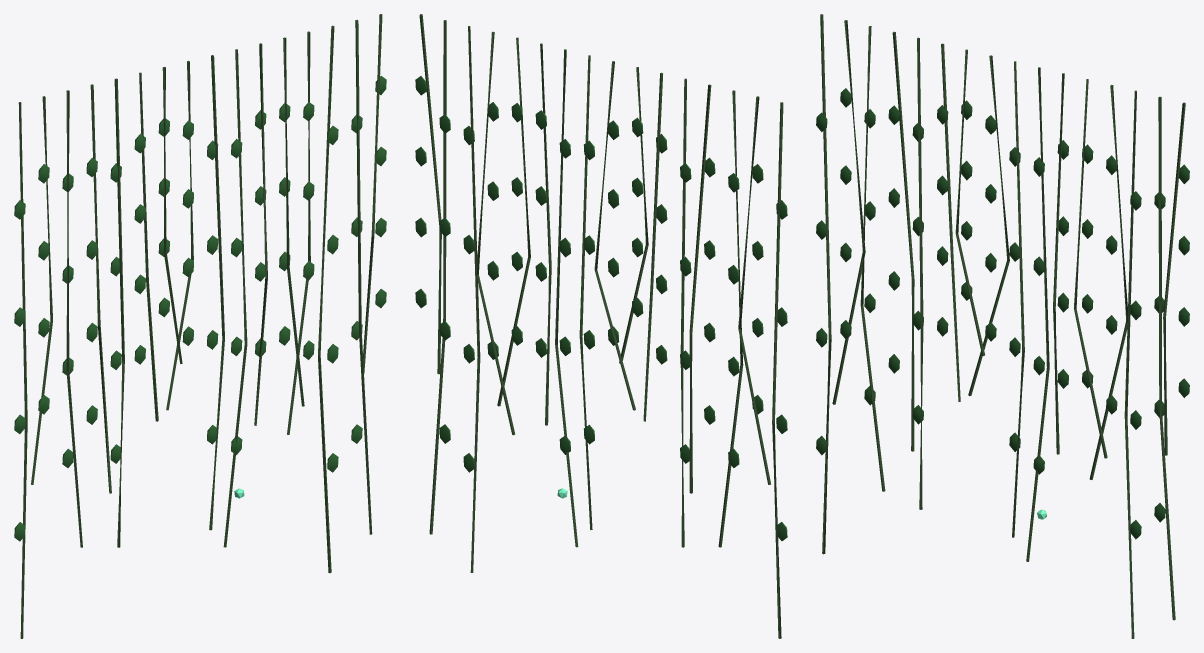
File: vine_curtain.glb
3 renders of one model, left to right at view 1: azimuth 30°, elevation 25°; view 2: azimuth 150°, elevation 25°; view 3: azimuth 330°, elevation 25°, orthographic.
Parts seen in each view (by area): view 1: vine_curtain; view 2: vine_curtain; view 3: vine_curtain.
Boxes of the visible parts, x1,y1,x2,y2 form: vine_curtain: (14,14,386,638); vine_curtain: (415,14,787,638); vine_curtain: (816,14,1189,638).
Bounding box in the file's own units: 5.26 × 7.37 × 0.4196.
